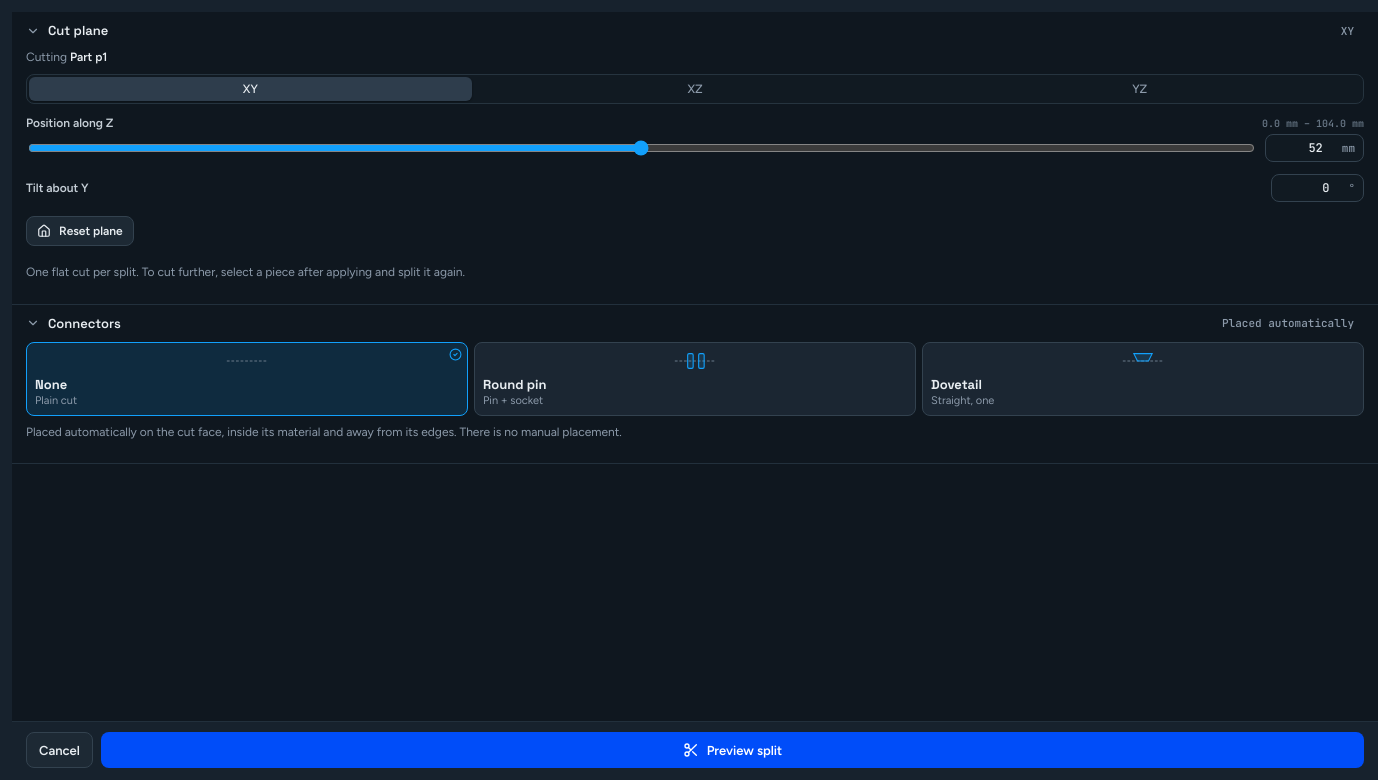
Test: connectors › shows the dovetail slot the clearance produces, and its orientation choice
This screenshot has width=1378, height=780.
Click the radio button with test id "split-connector-dovetail" at (1143, 361), box [922,342,1364,416]
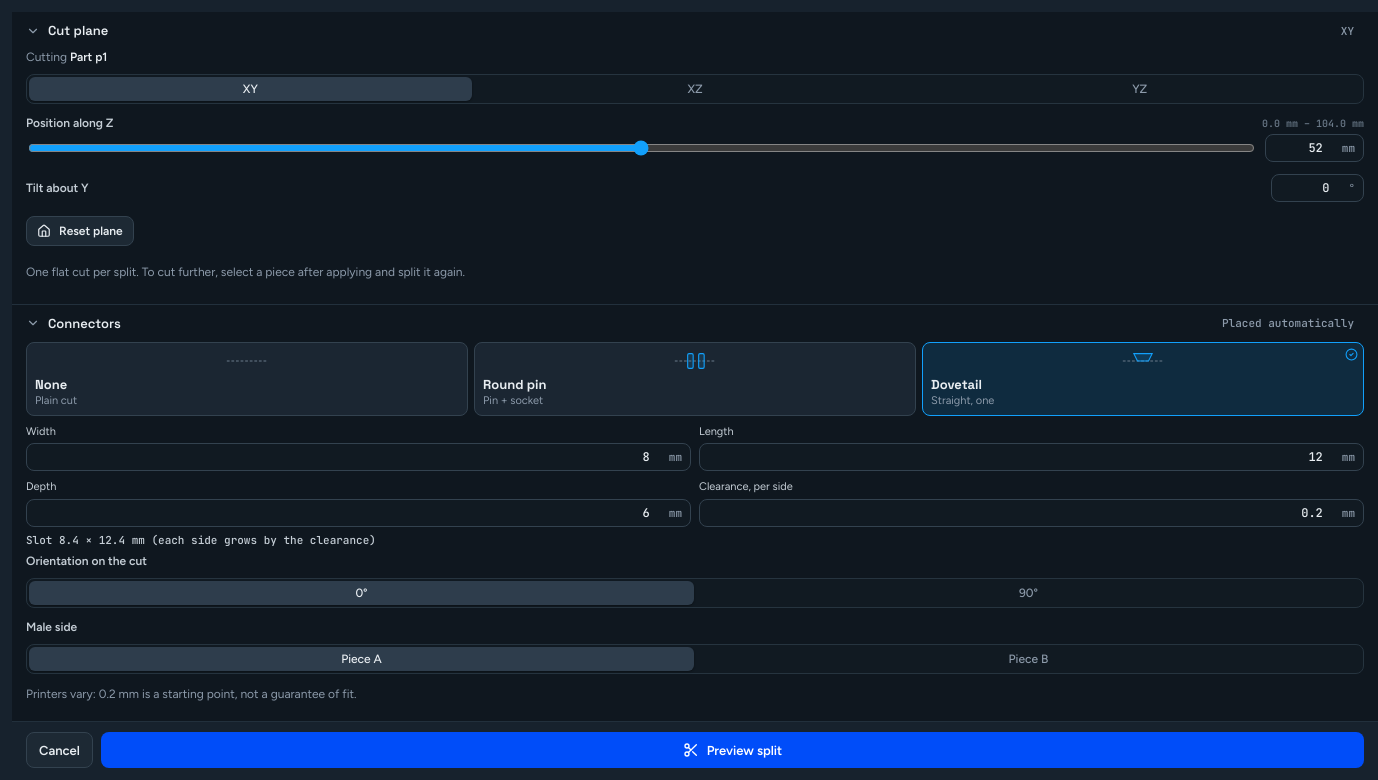
expect the text with test id "split-slot-size" shows "Slot 8.4 × 12.4 mm": met, box [26,532,376,546]
expect the element named "Dovetail orientation" is shown: met, box [26,578,1364,608]
